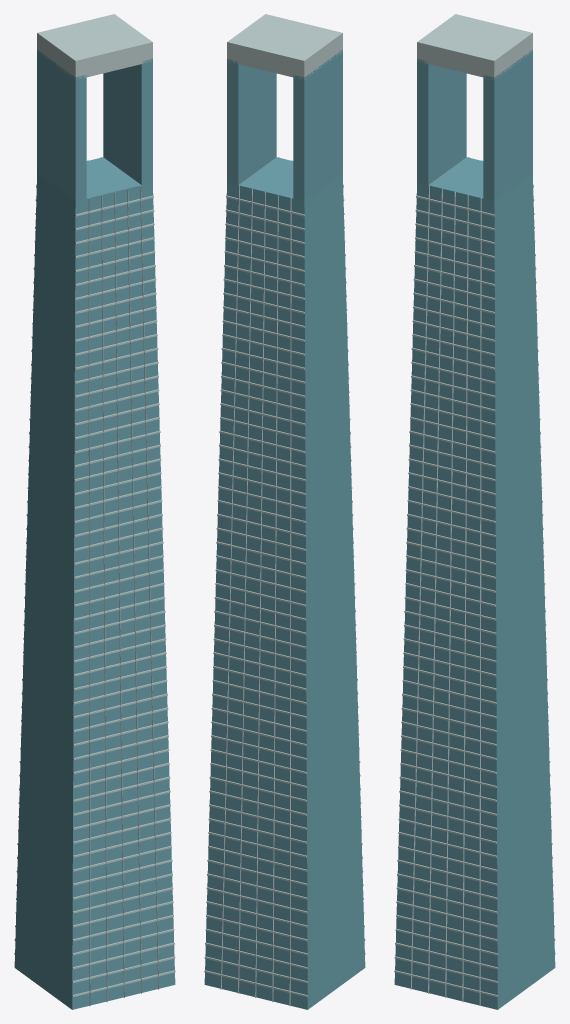
File: world-financial-center.glb
3 renders of one model, left to right at view 1: azimuth 30°, elevation 25°; view 2: azimuth 150°, elevation 25°; view 3: azimuth 330°, elevation 25°, orthographic.
Parts seen in each view (by area): view 1: world-financial-center; view 2: world-financial-center; view 3: world-financial-center.
Boxes of the visible parts, left/top/right/bottom form: world-financial-center: left=14, top=14, right=175, bottom=1009; world-financial-center: left=204, top=14, right=365, bottom=1009; world-financial-center: left=394, top=14, right=555, bottom=1009.
Bounding box in the file's own units: 56.55 × 492 × 56.4.
